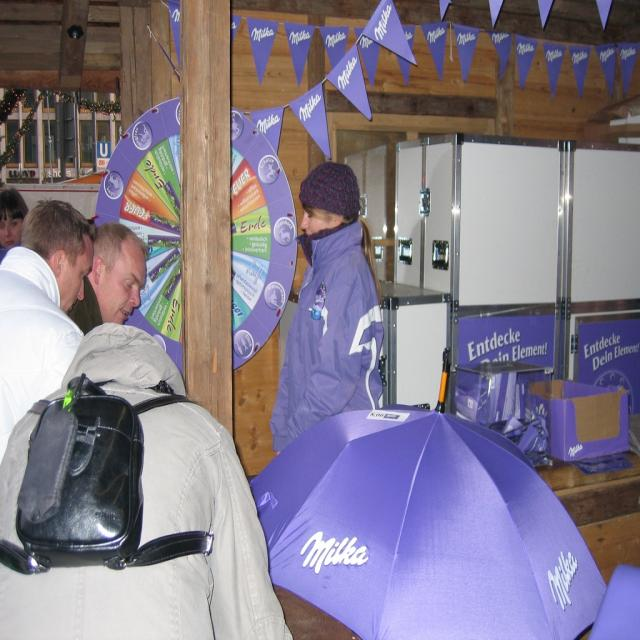milka: (296, 529, 373, 579), (546, 547, 579, 611), (372, 4, 394, 44), (295, 93, 323, 124), (337, 56, 358, 92), (256, 111, 282, 137), (322, 26, 348, 51), (512, 40, 539, 59), (425, 23, 446, 47), (289, 26, 312, 47), (250, 24, 274, 42), (566, 441, 585, 462), (456, 28, 476, 47), (494, 28, 514, 46), (620, 46, 637, 67), (546, 47, 564, 65), (599, 48, 617, 66), (571, 51, 590, 68), (361, 36, 377, 50)
